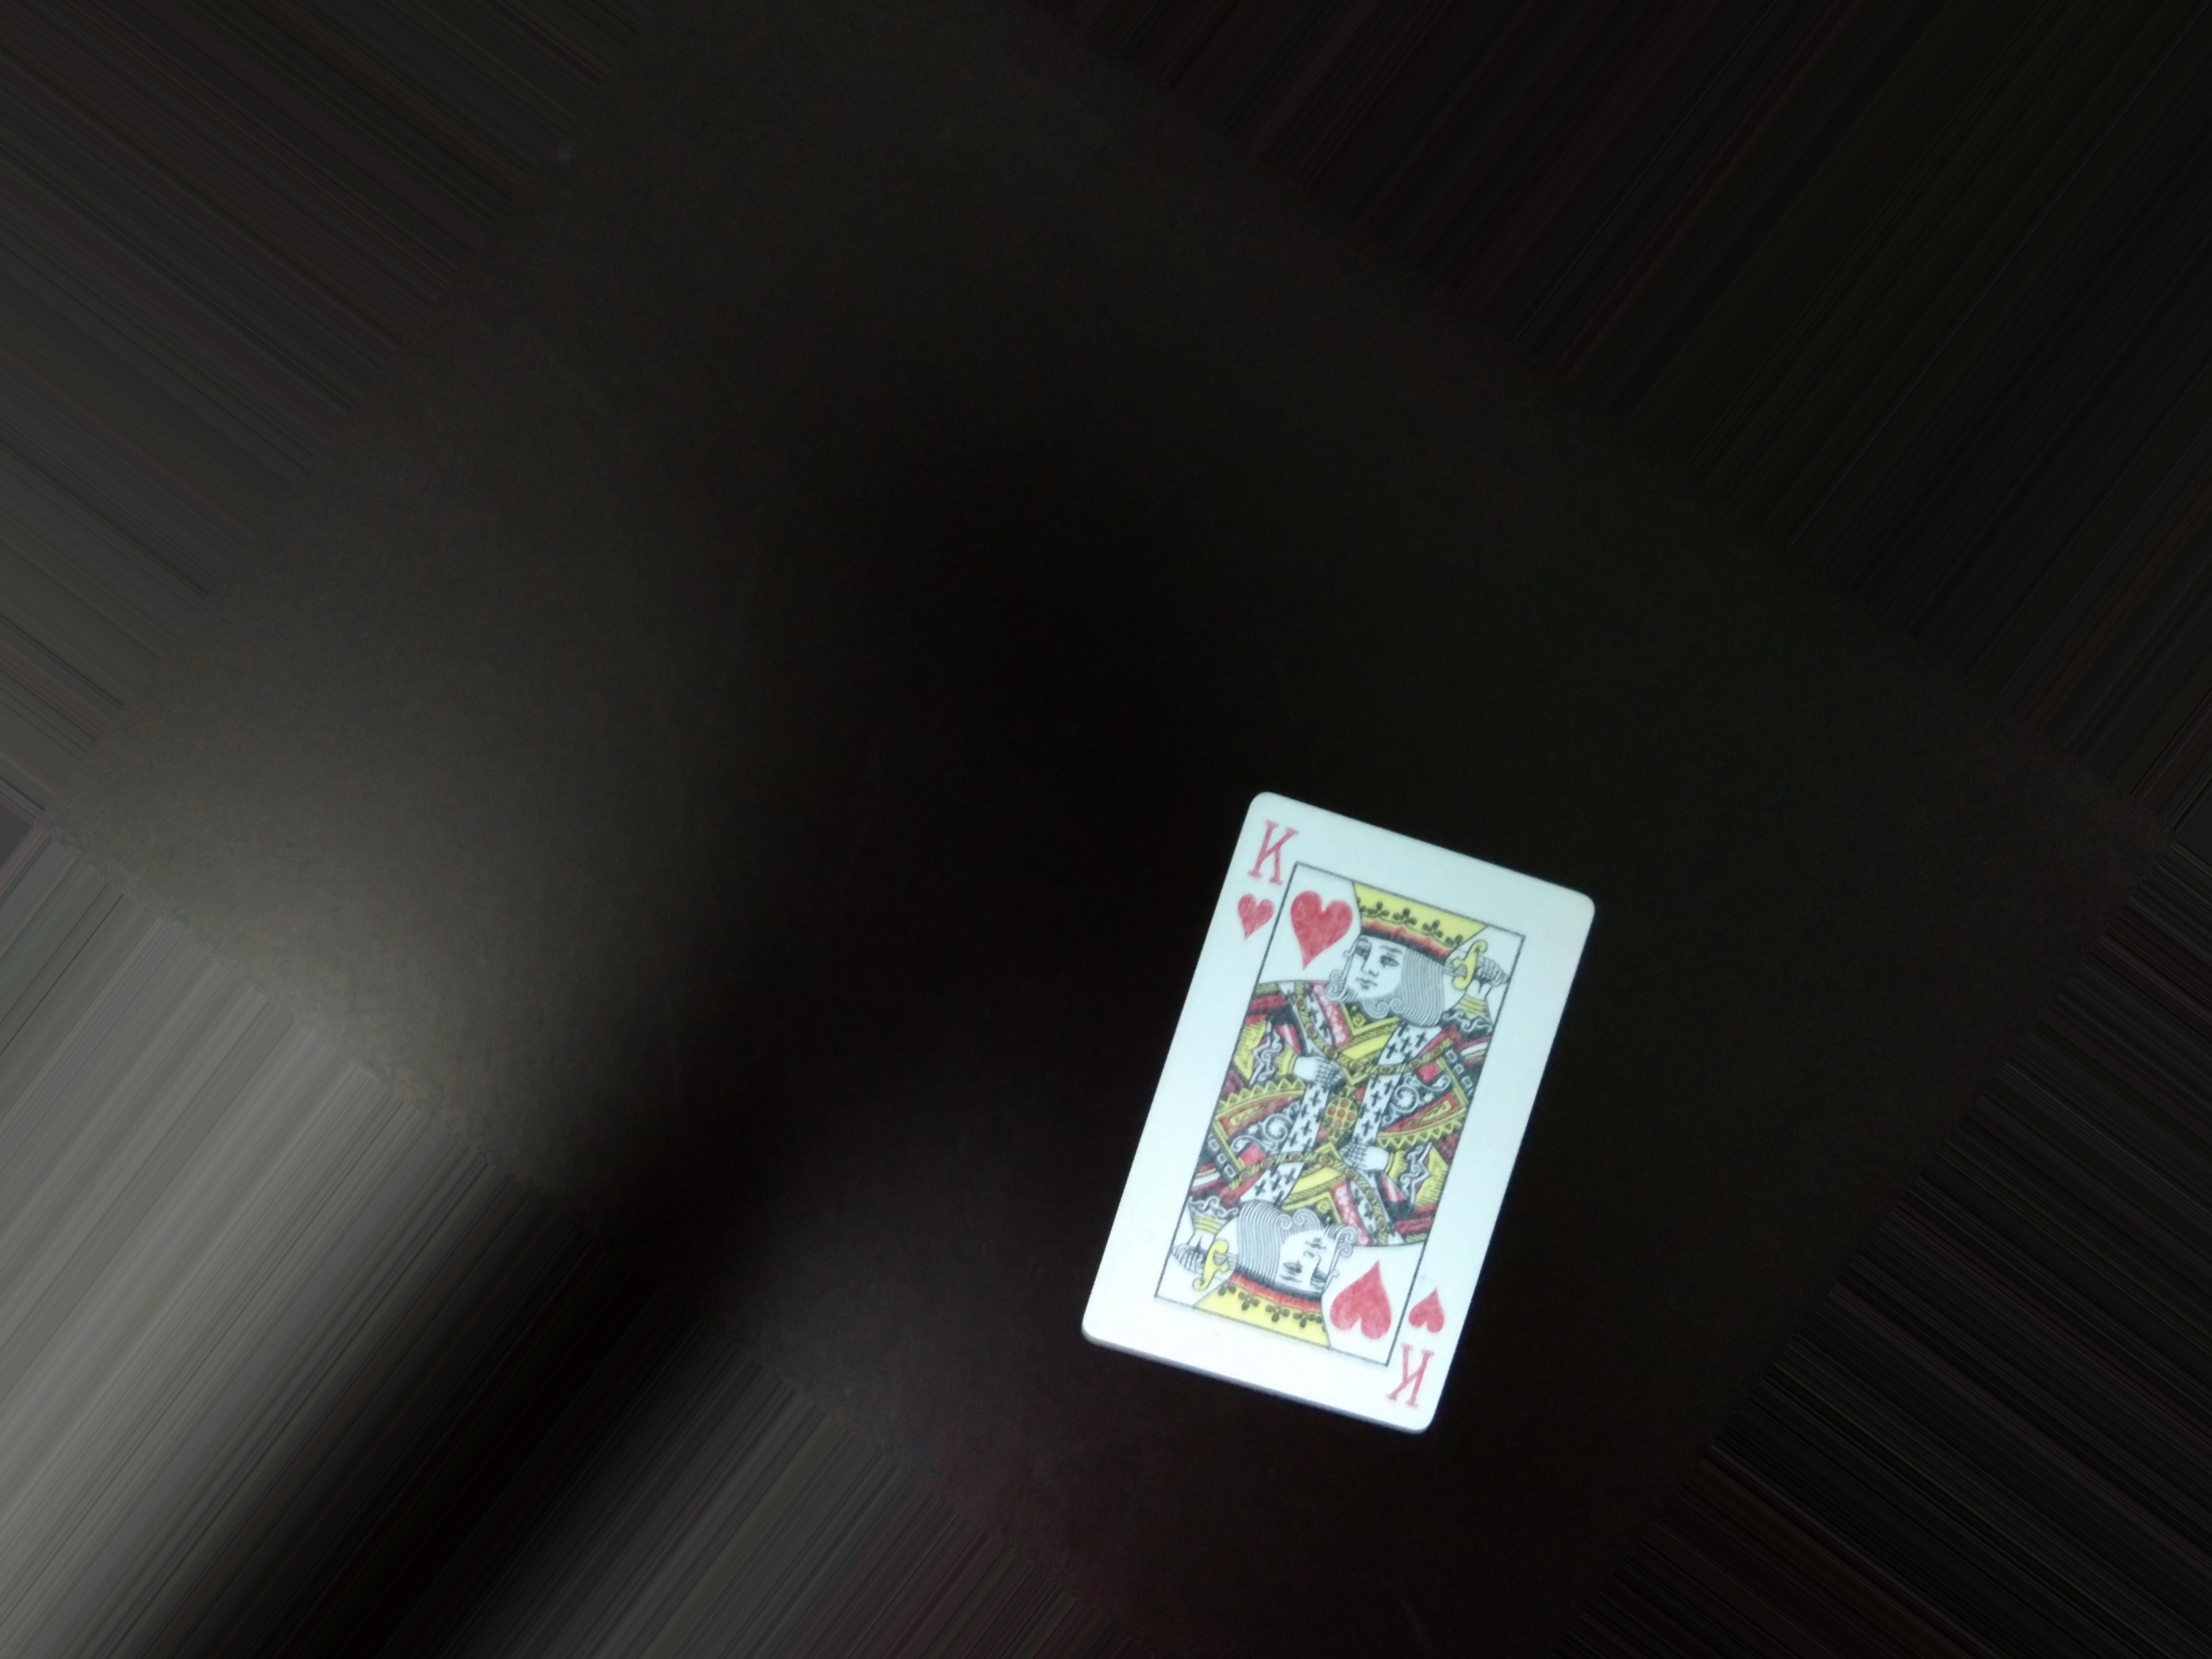KH: (1237, 805, 1298, 945)
